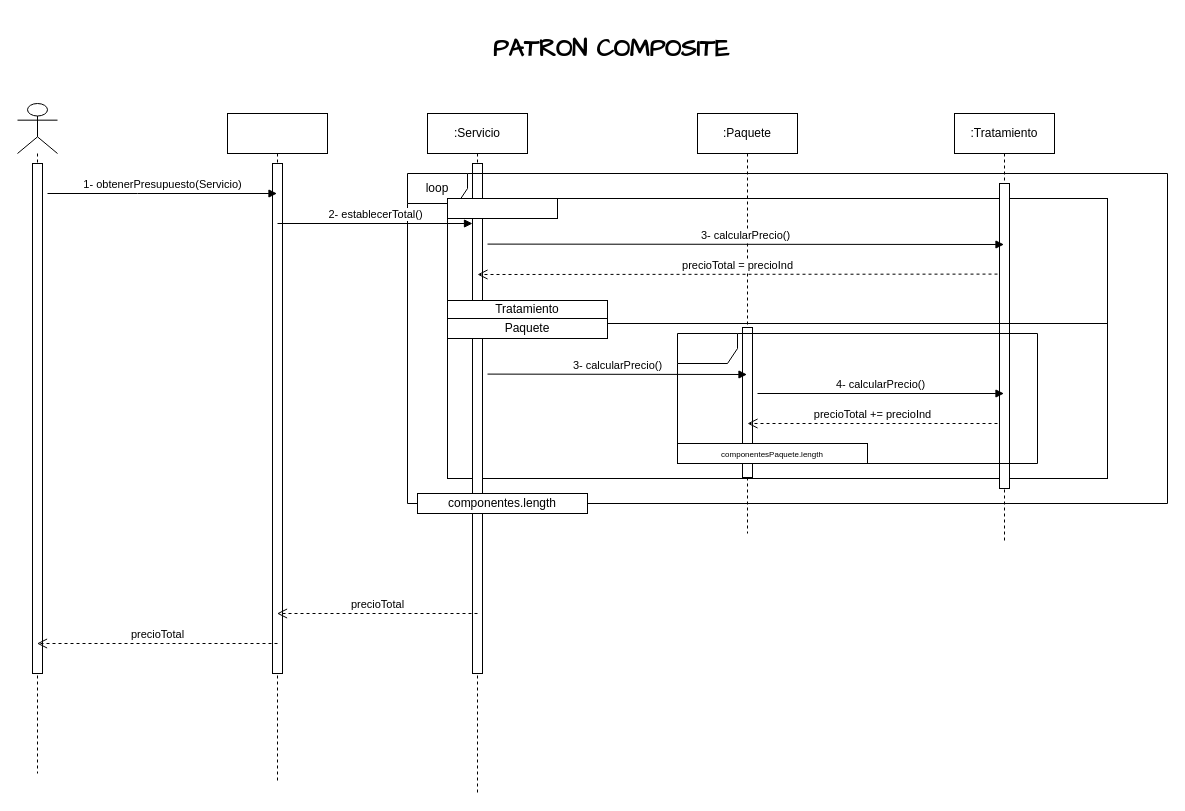
This 1185x811 diagram has some shape labels left out. The box of each missing label's shape, as (x1, y1, x2, y2) in pixels:
:Clinica: (226, 112, 328, 784)
frame: (676, 332, 1038, 464)
if else: (446, 198, 558, 218)
